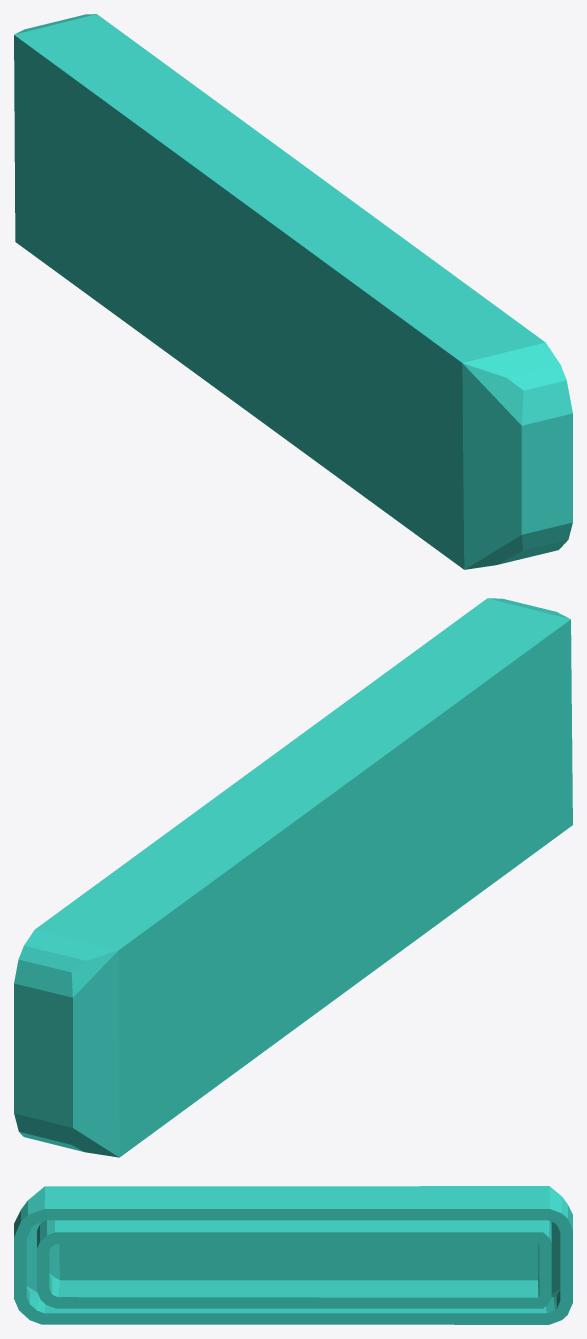
The model's file is portreit.fbx.
3 views of the same model, one above another, from view 1: azimuth 30°, elevation 25°; view 2: azimuth 150°, elevation 25°; view 3: azimuth 270°, elevation 25° (orthographic). The views are drawn at different scales.
Parts seen in each view (by area): view 1: Cube; view 2: Cube; view 3: Cube.
Boxes of the visible parts, x1,y1,x2,y2 form: Cube: [14, 14, 572, 569]; Cube: [14, 598, 572, 1157]; Cube: [14, 1186, 572, 1324].
Size of the model in its own units: 97.53 by 200 by 873.
